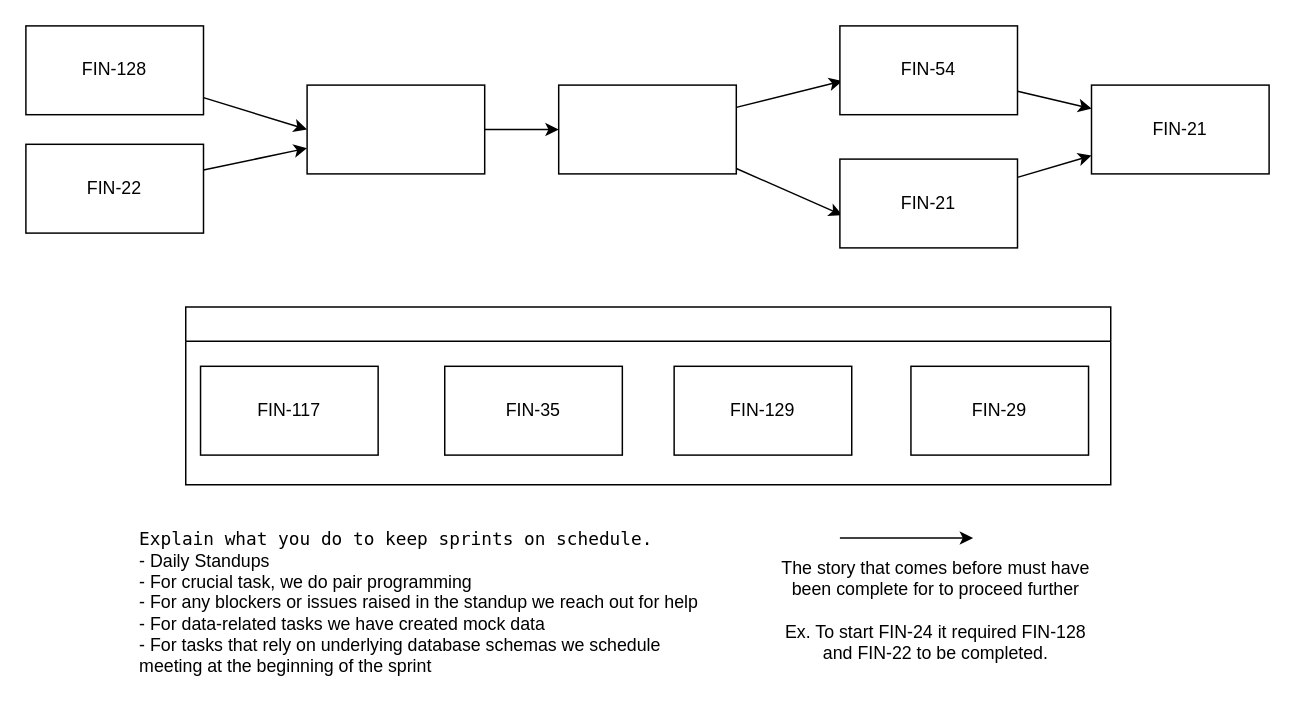
This 1295x721 diagram has some shape labels left out. Here are the shapes that lost their labels. From the top down, the box of each, then its label:
(306, 84, 485, 174): FIN-24
(557, 84, 736, 174): FIN-19
(184, 306, 1111, 485): Independent Stories
